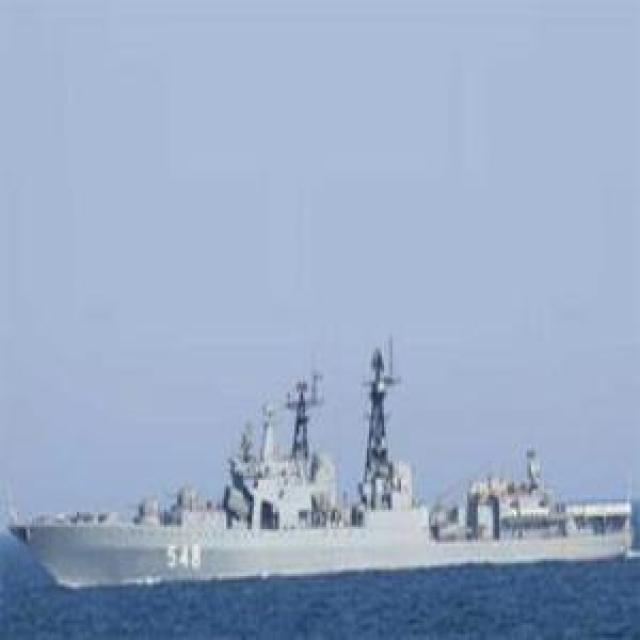navalvessels: (12, 319, 633, 597)
